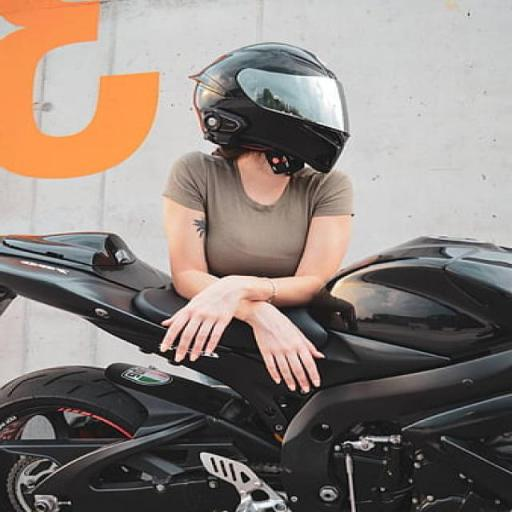Helmet: (190, 43, 348, 174)
Motor: (0, 238, 511, 511)
